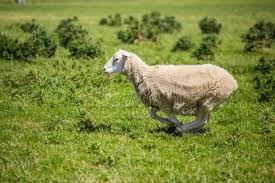sheep: (106, 49, 243, 136)
